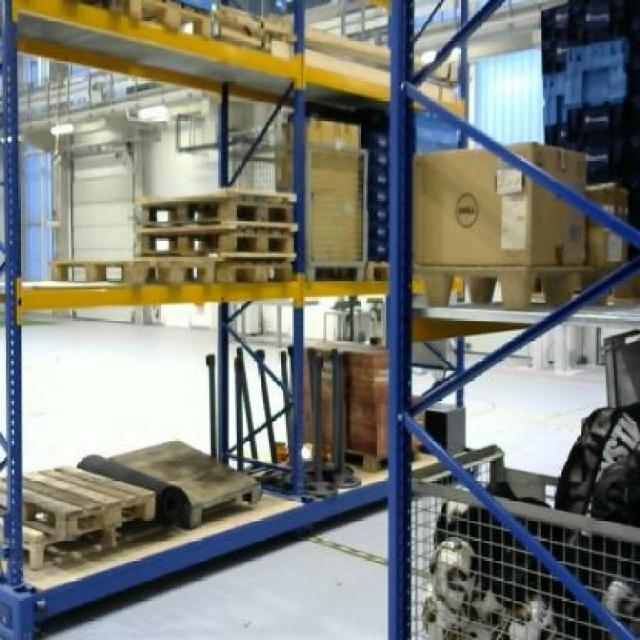box: (413, 141, 587, 264), (306, 114, 360, 260)
